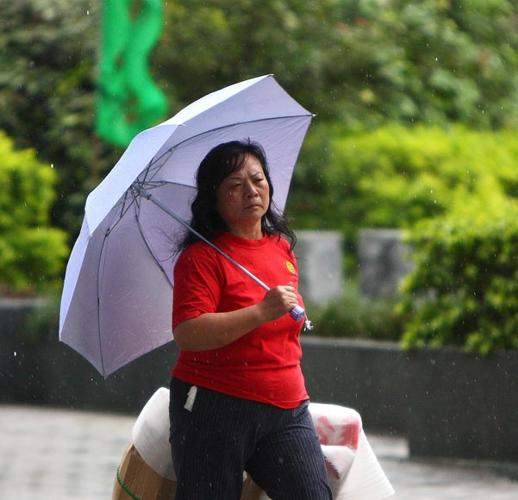person: (169, 139, 334, 500)
